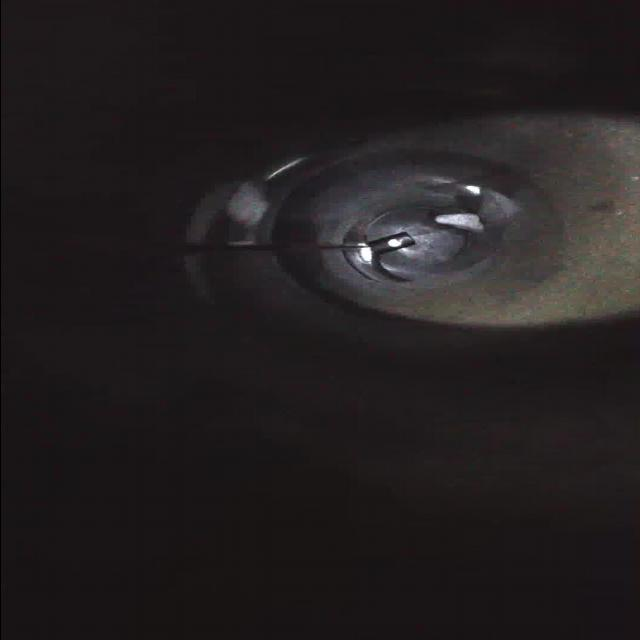impurity: (429, 209, 488, 235)
